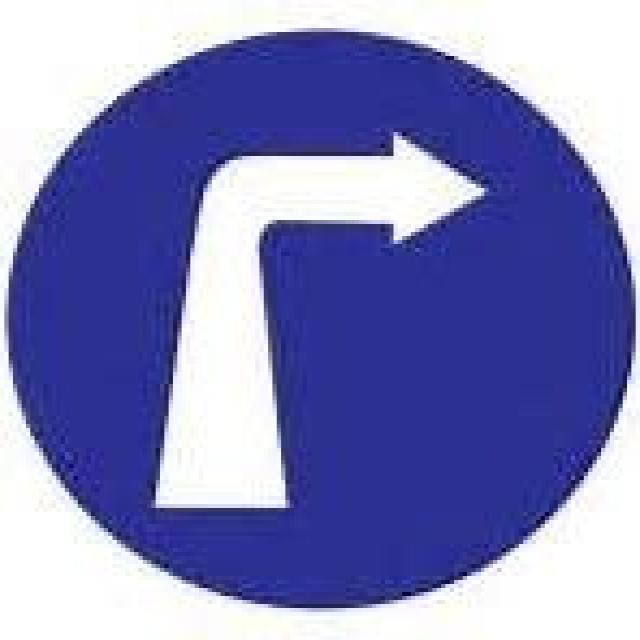compulsary turn right ahead: (20, 23, 626, 594)
